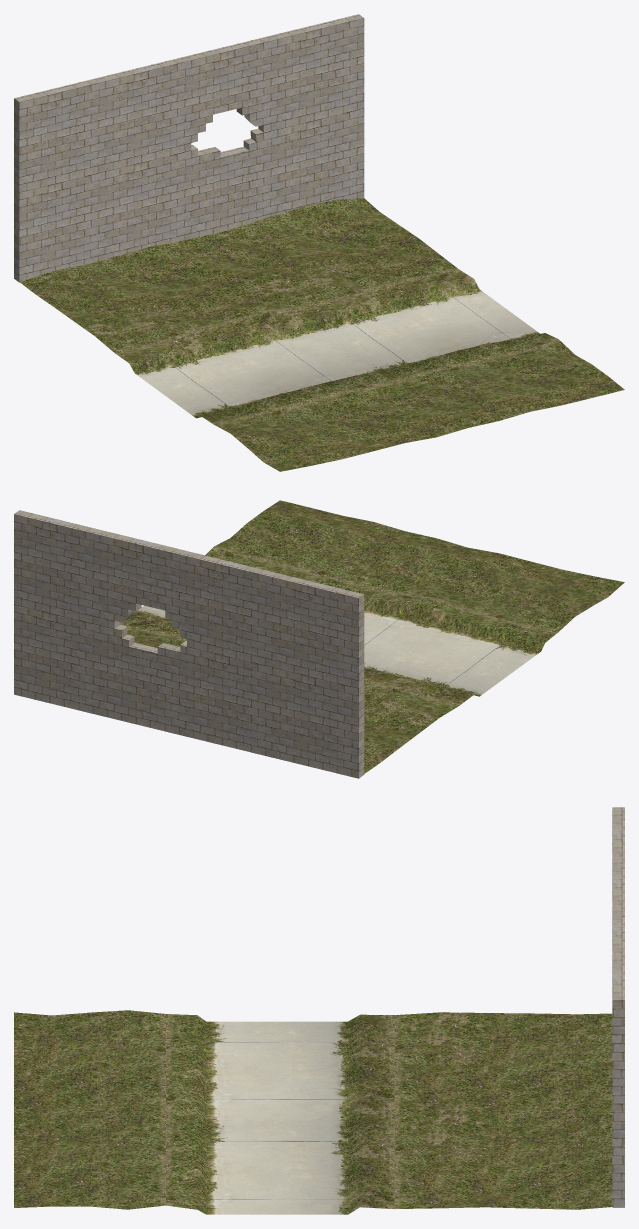
Rendered from GeoPainter_Exemple_Place.FBX.
3 views of the same model, one above another, from view 1: azimuth 30°, elevation 25°; view 2: azimuth 150°, elevation 25°; view 3: azimuth 270°, elevation 25° (orthographic). The views are drawn at different scales.
Visible parts, largest first — view 1: GeoPainter_Exemple_Place (×2); view 2: GeoPainter_Exemple_Place (×2); view 3: GeoPainter_Exemple_Place (×2).
Boxes of the visible parts, x1,y1,x2,y2 form: GeoPainter_Exemple_Place (×2): (14,14,624,471); GeoPainter_Exemple_Place (×2): (14,500,624,778); GeoPainter_Exemple_Place (×2): (14,807,624,1214).
Bounding box in the file's own units: 400 × 207 × 535.
3 materials, 3 textured.
